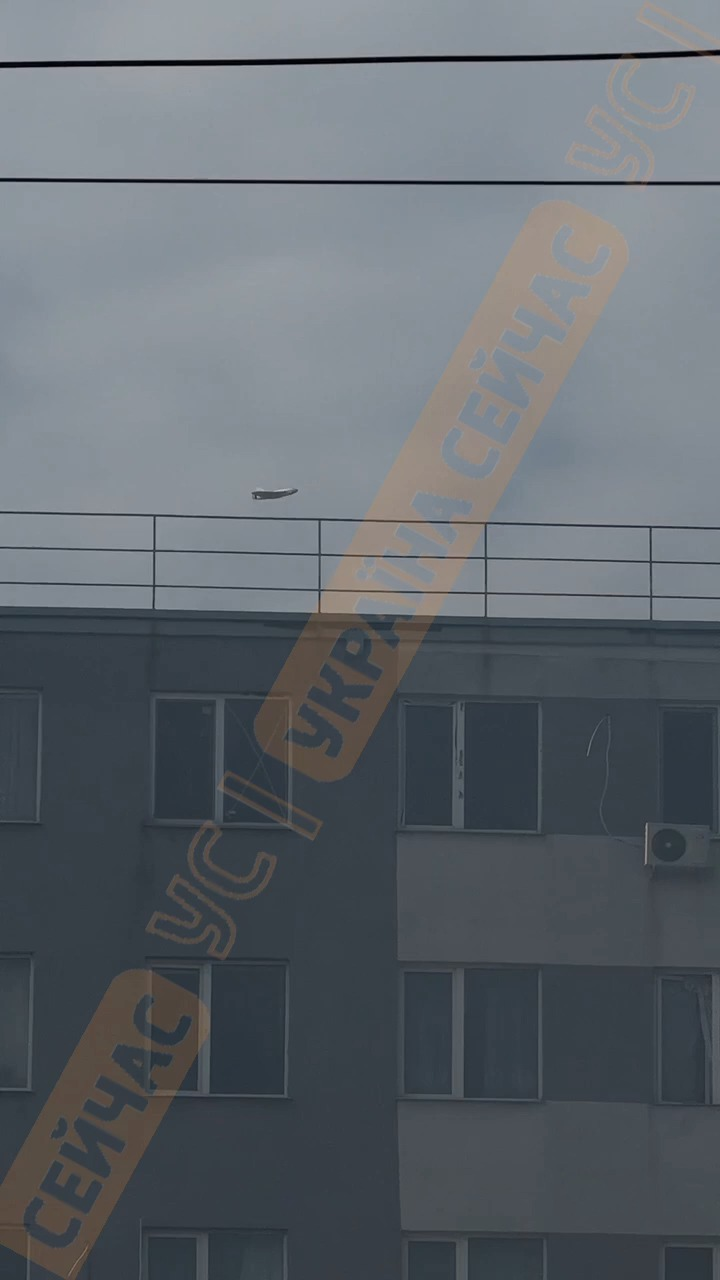shahed: (251, 479, 303, 506)
